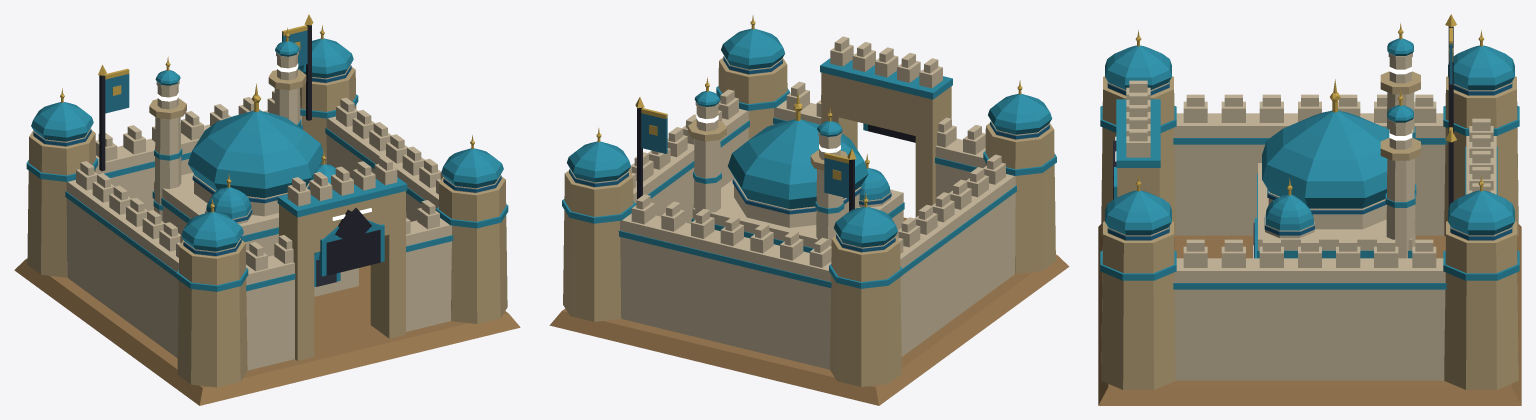
Rendered from castle_t3.glb.
The picture shows the model from 3 angles, left to right: view 1: azimuth 30°, elevation 25°; view 2: azimuth 150°, elevation 25°; view 3: azimuth 270°, elevation 25°; orthographic projection. The views are drawn at different scales.
Visible parts, largest first — view 1: body; view 2: body; view 3: body.
Part boxes in pixels (<box>): body: <box>14,14,520,405</box>; body: <box>549,15,1069,405</box>; body: <box>1098,14,1521,405</box>.
Size of the model in its own units: 4.2 by 2.86 by 4.2.
